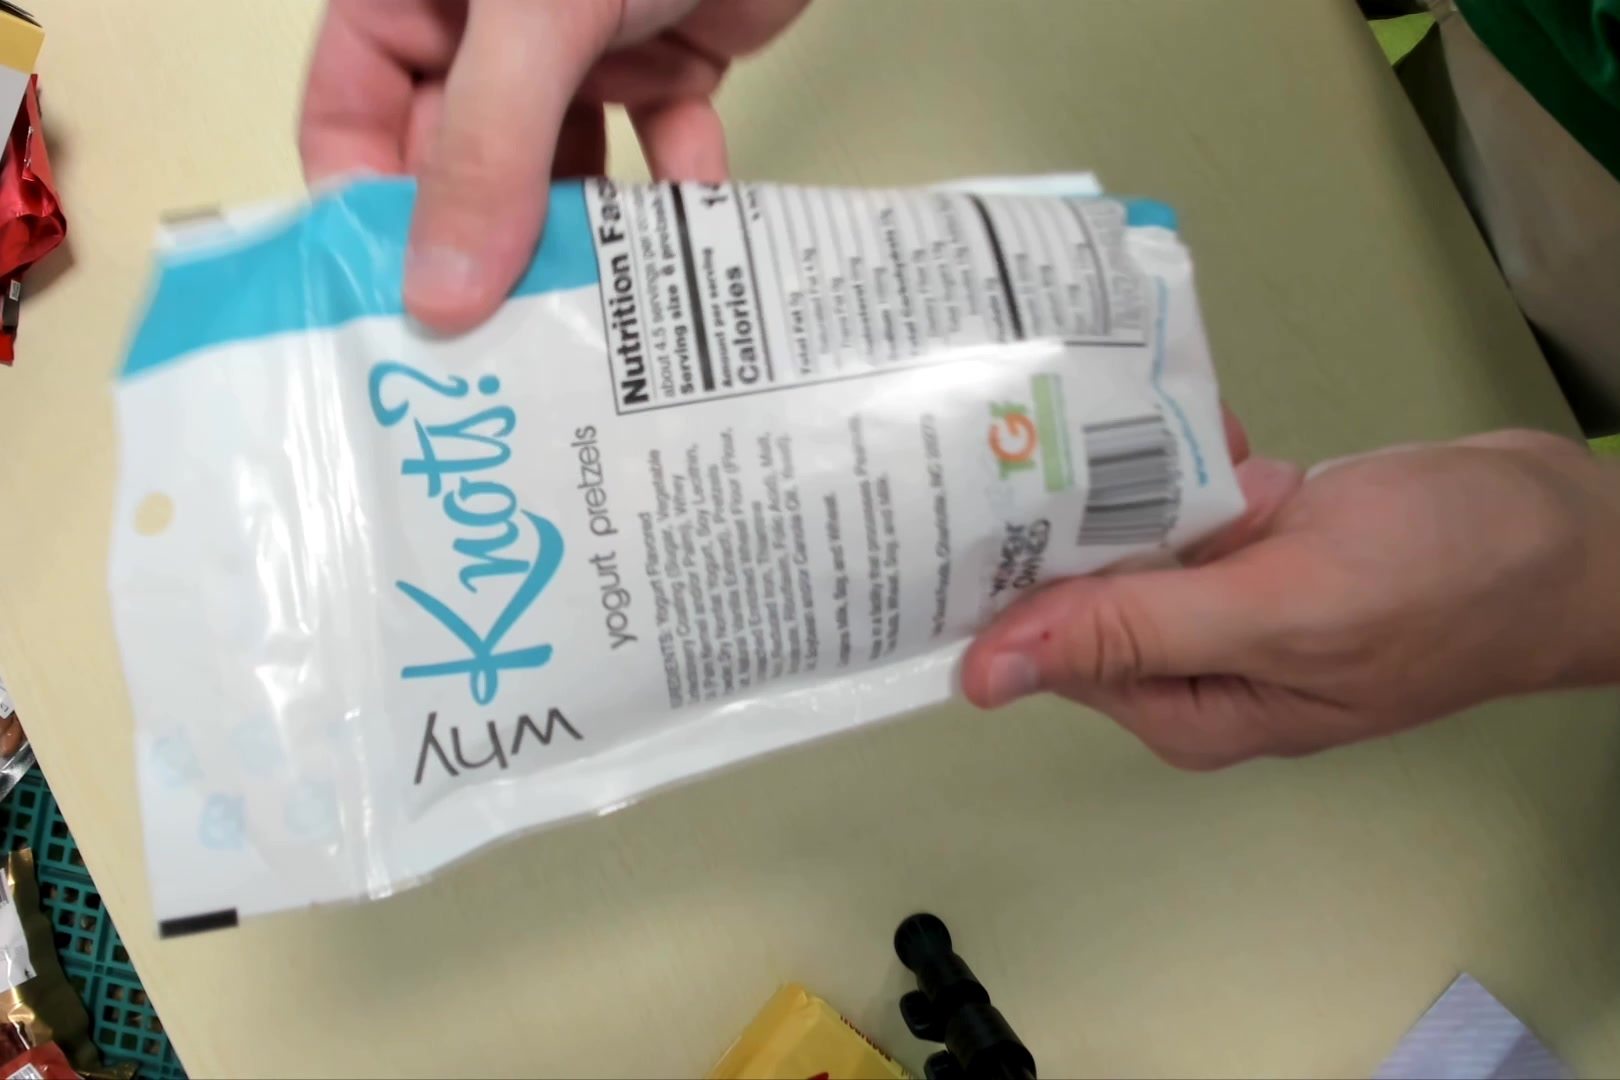SweetsChocolatesOthers_100-199g_NonHalal_NonHealthy: (104, 172, 1246, 938)
